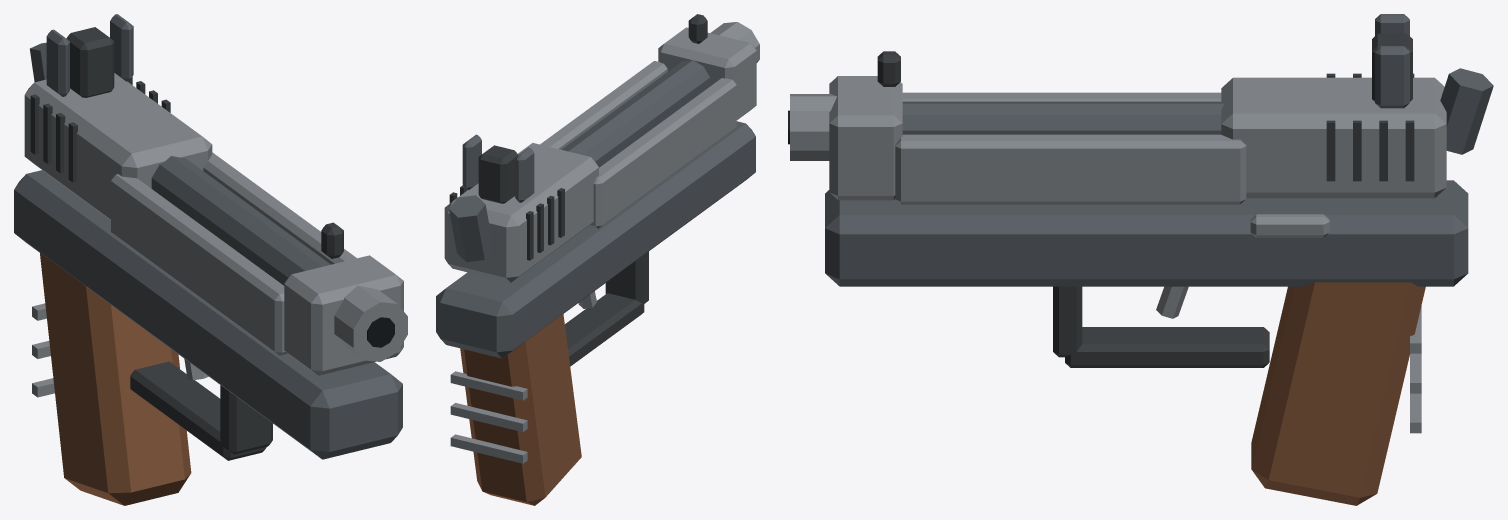
File: weapon_dual_berettas.glb
3 views of the same model, side by side, from view 1: azimuth 30°, elevation 25°; view 2: azimuth 150°, elevation 25°; view 3: azimuth 270°, elevation 25° (orthographic). The views are drawn at different scales.
Visible parts, largest first — view 1: Body; view 2: Body; view 3: Body.
Boxes of the visible parts, x1,y1,x2,y2 form: Body: [14, 14, 407, 505]; Body: [436, 14, 759, 505]; Body: [788, 14, 1493, 505].
Bounding box in the file's own units: 0.0465 × 0.1742 × 0.2413.
